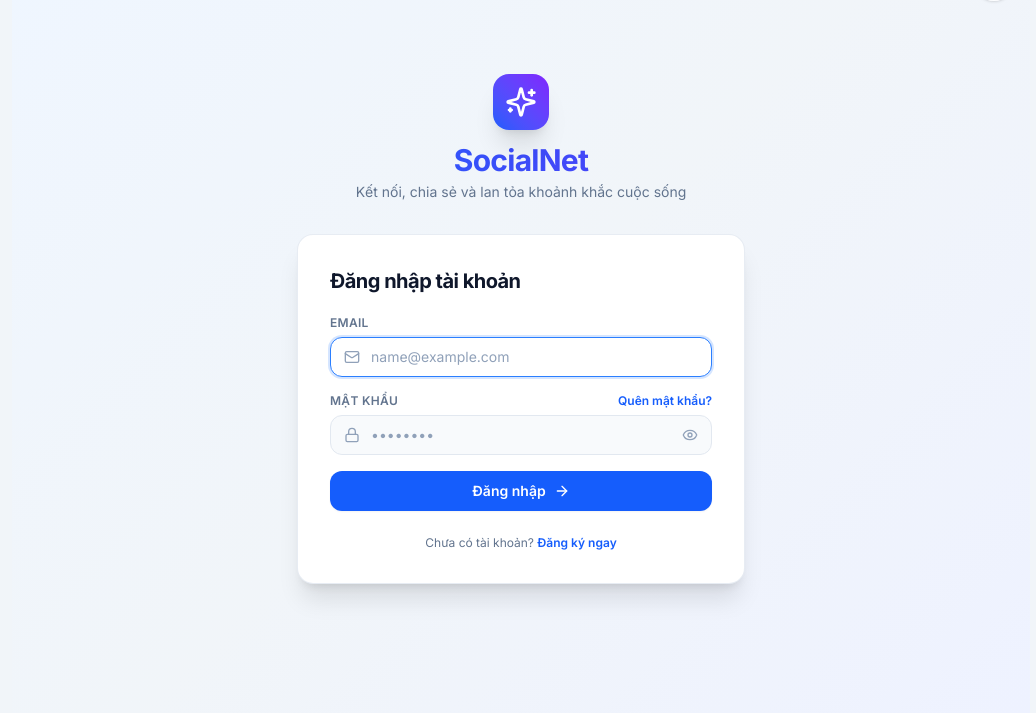
Đăng nhập › có liên kết Quên mật khẩu và Đăng ký
Click the link "Quên mật khẩu?". click: (665, 401)
box: [618, 393, 712, 409]
(page scrolled)
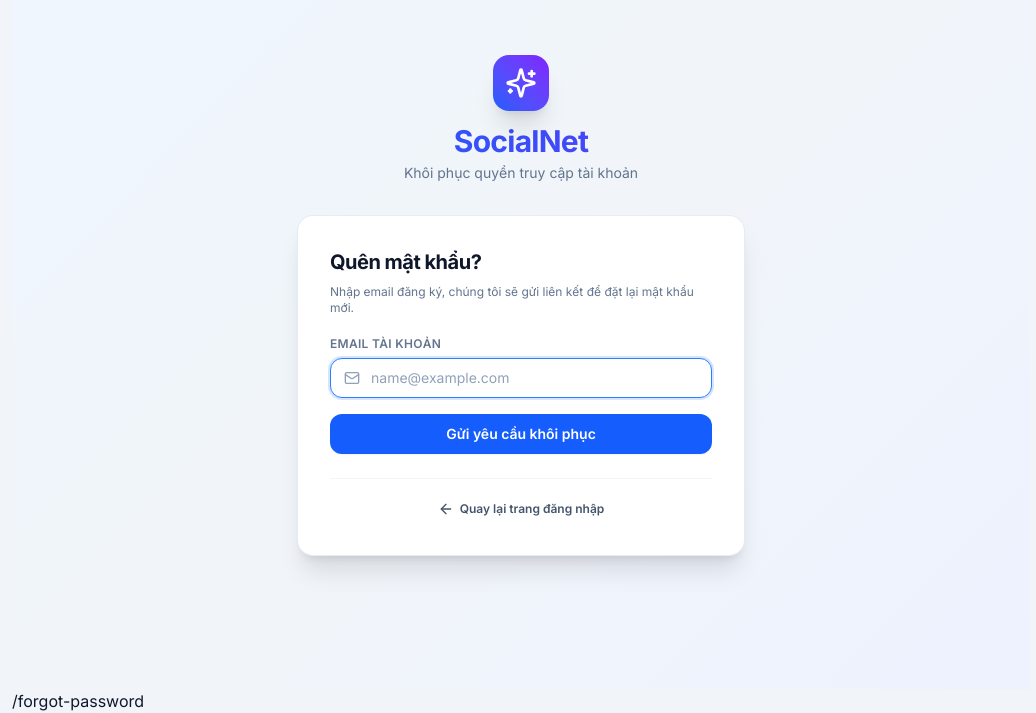
Check: the text with test id "location" reads "/forgot-password", box [12, 691, 144, 711]
